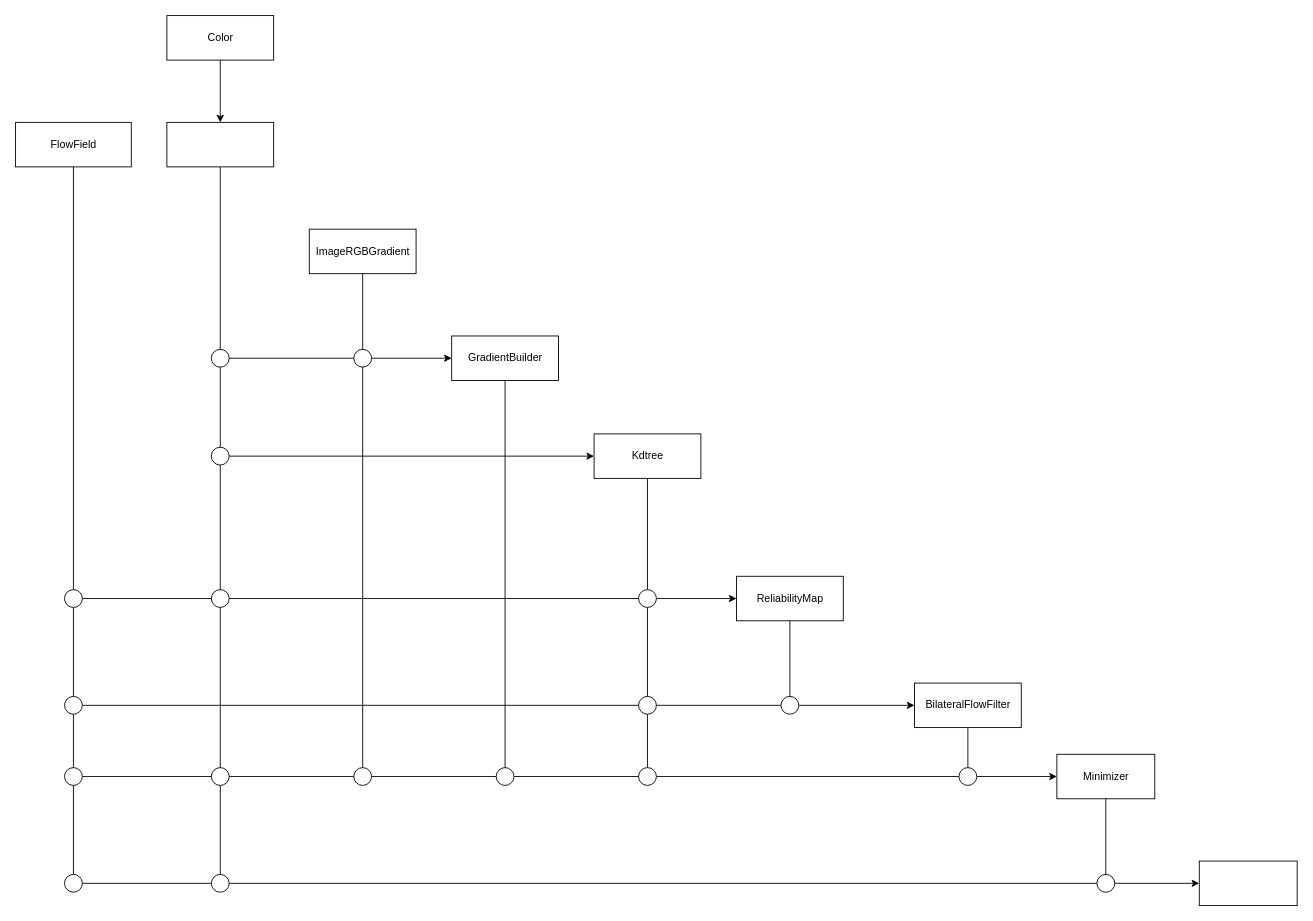
This 1313x921 diagram has some shape labels left out. Here are the shapes that lost their labels. From the top down, the box of each, then its label:
(166, 121, 274, 167): ImageRGB
(1198, 860, 1297, 906): OpticalFlow
